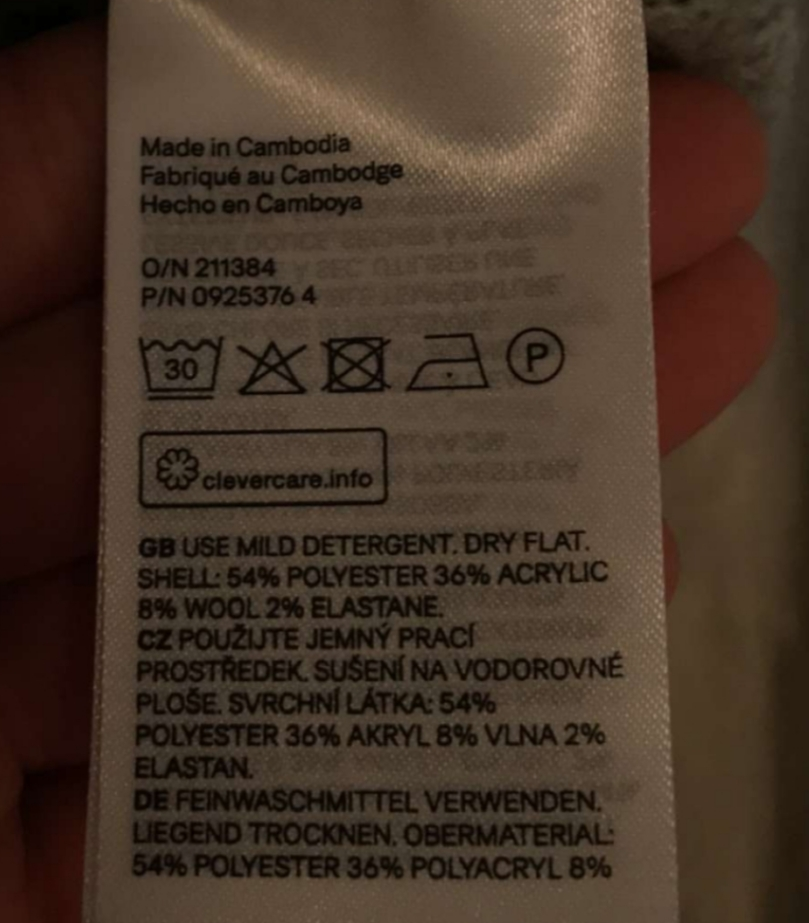do not bleach: (229, 333, 309, 410)
do not tumble dry: (314, 322, 409, 405)
dry clean: (487, 316, 591, 404)
iron low temp: (393, 315, 497, 405)
wash at or below 30: (122, 321, 233, 412)
